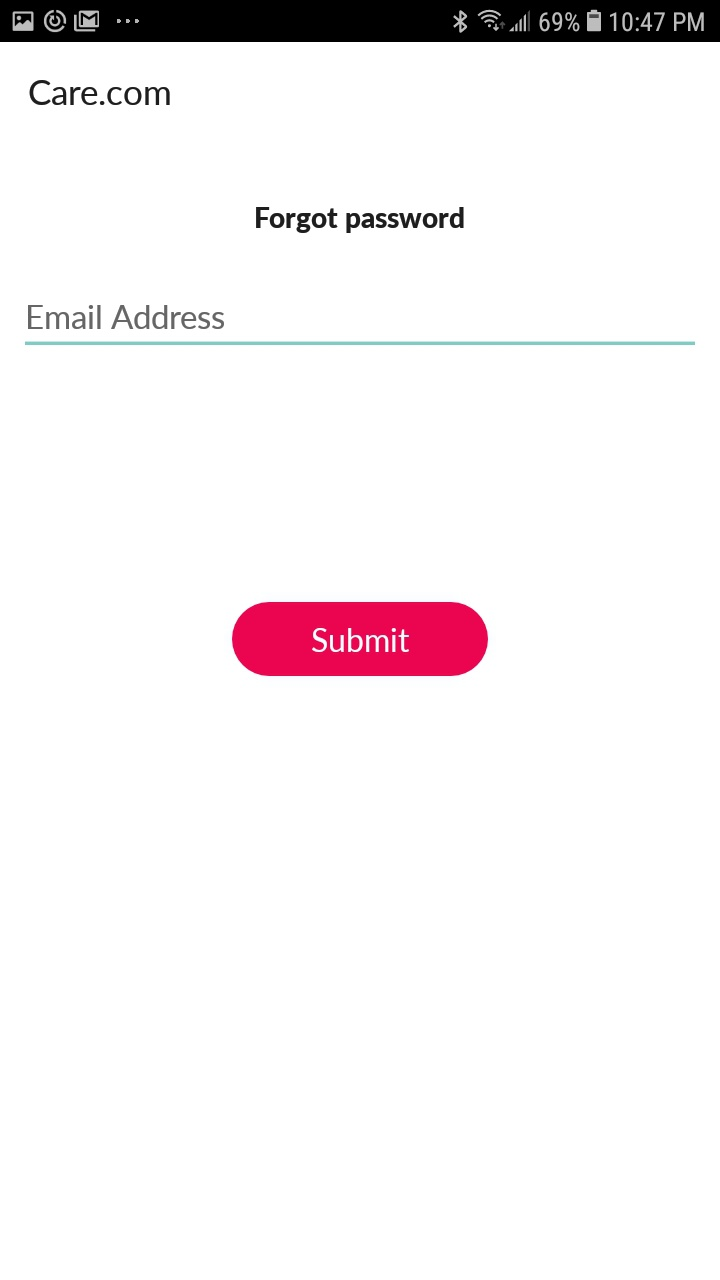EditText: (25, 305, 696, 347)
Text: (256, 207, 465, 234), (28, 305, 225, 331), (30, 80, 171, 107)
TextButton: (232, 602, 489, 677)
UpperTaskBar: (1, 1, 720, 43)
